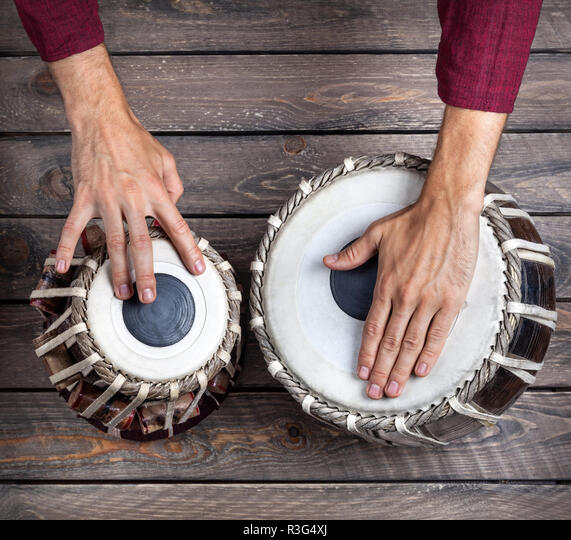tabla: (251, 154, 557, 446), (36, 229, 239, 435)
